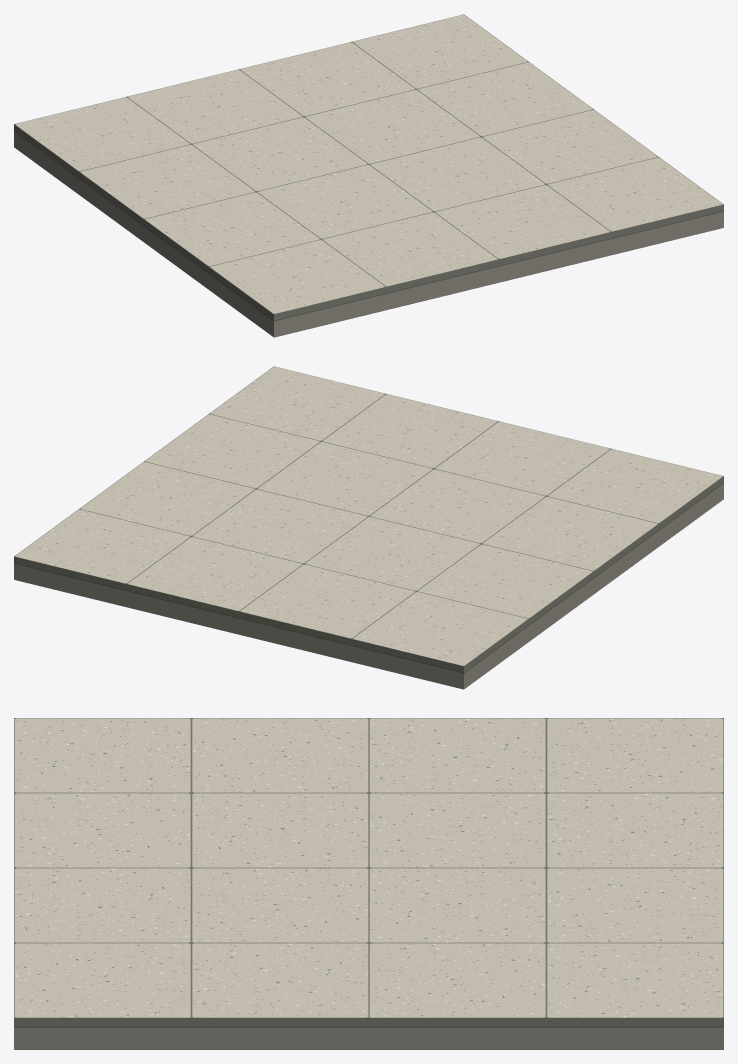
Rendered from mall-floor-module-2m-lod1.glb.
The picture shows the model from 3 angles, top to bottom: view 1: azimuth 30°, elevation 25°; view 2: azimuth 150°, elevation 25°; view 3: azimuth 270°, elevation 25°; orthographic projection. The views are drawn at different scales.
Visible parts, largest first — view 1: MODULE_StraightFloor_L1; view 2: MODULE_StraightFloor_L1; view 3: MODULE_StraightFloor_L1.
Boxes of the visible parts, bbox=[...] form: MODULE_StraightFloor_L1: bbox=[14, 14, 723, 337]; MODULE_StraightFloor_L1: bbox=[14, 366, 723, 689]; MODULE_StraightFloor_L1: bbox=[14, 718, 723, 1049].
Size of the model in its own units: 2 by 0.1 by 2.
Materials: 4 (1 with a texture image).
